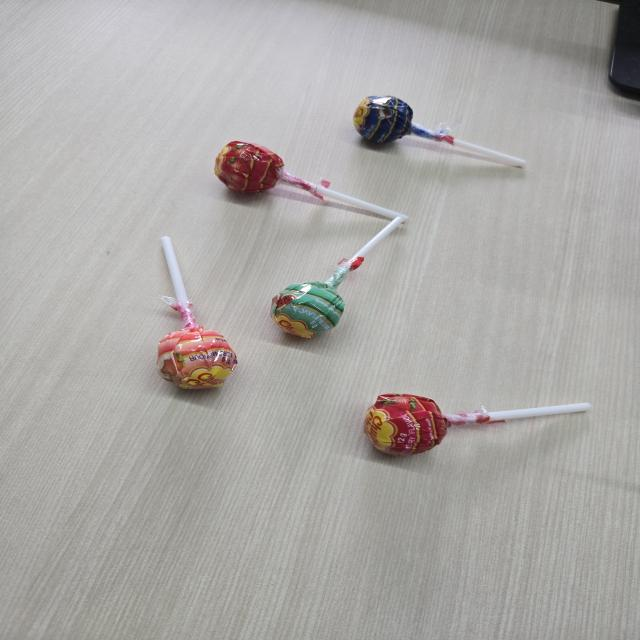lollipop: (269, 216, 405, 347), (366, 391, 590, 462), (212, 140, 406, 218), (155, 236, 241, 402), (351, 92, 528, 170)
